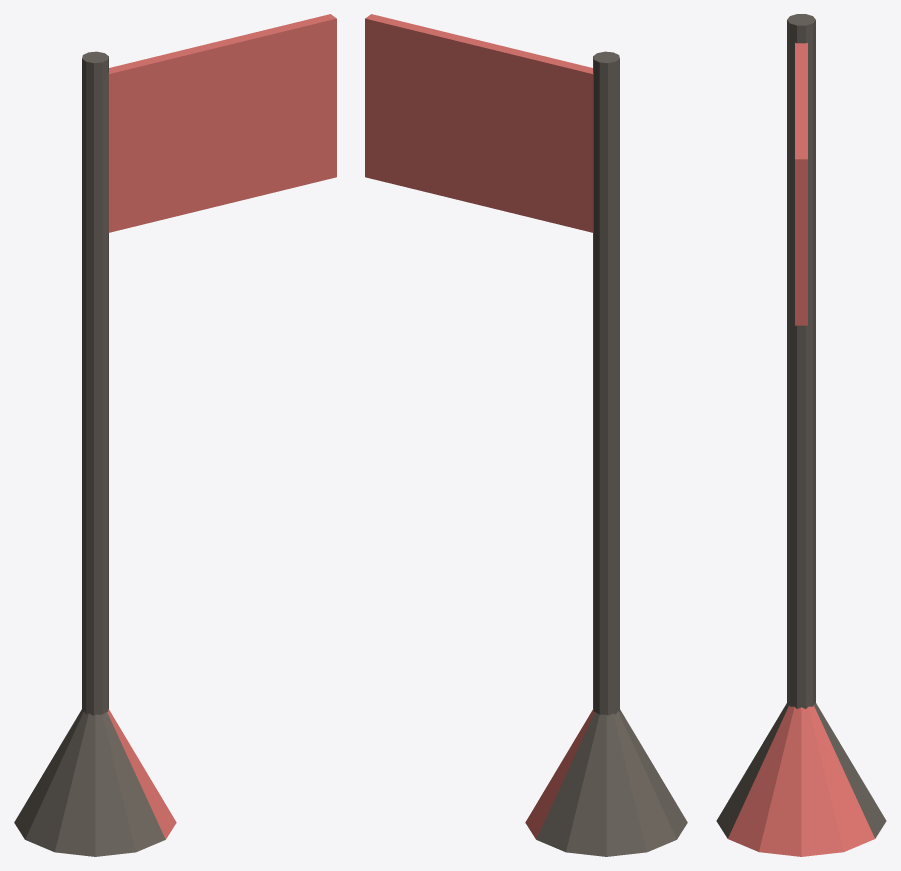
The model's file is flag.glb.
3 views of the same model, side by side, from view 1: azimuth 30°, elevation 25°; view 2: azimuth 150°, elevation 25°; view 3: azimuth 270°, elevation 25° (orthographic). The views are drawn at different scales.
Parts seen in each view (by area): view 1: FlagPin; view 2: FlagPin; view 3: FlagPin.
Boxes of the visible parts, x1,y1,x2,y2 form: FlagPin: (14,14,336,856); FlagPin: (365,14,687,856); FlagPin: (716,14,886,856).
Size of the model in its own units: 0.57 by 1.35 by 0.26.
